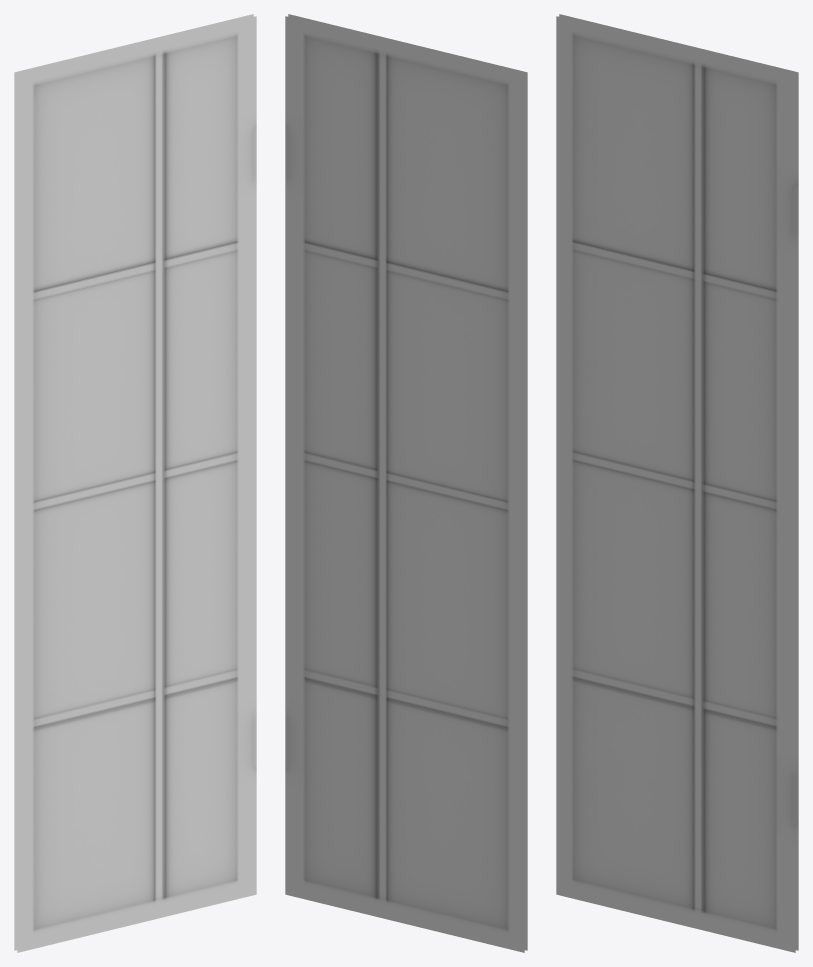
File: Glass_Window_Flap.FBX
3 views of the same model, side by side, from view 1: azimuth 30°, elevation 25°; view 2: azimuth 150°, elevation 25°; view 3: azimuth 330°, elevation 25° (orthographic).
Parts seen in each view (by area): view 1: Glass_Window_Flap; view 2: Glass_Window_Flap; view 3: Glass_Window_Flap.
Part boxes in pixels (x1,y1,x2,y2): Glass_Window_Flap: (14, 14, 256, 952); Glass_Window_Flap: (285, 14, 527, 952); Glass_Window_Flap: (556, 14, 798, 952).
Size of the model in its own units: 46.83 by 164 by 1.
